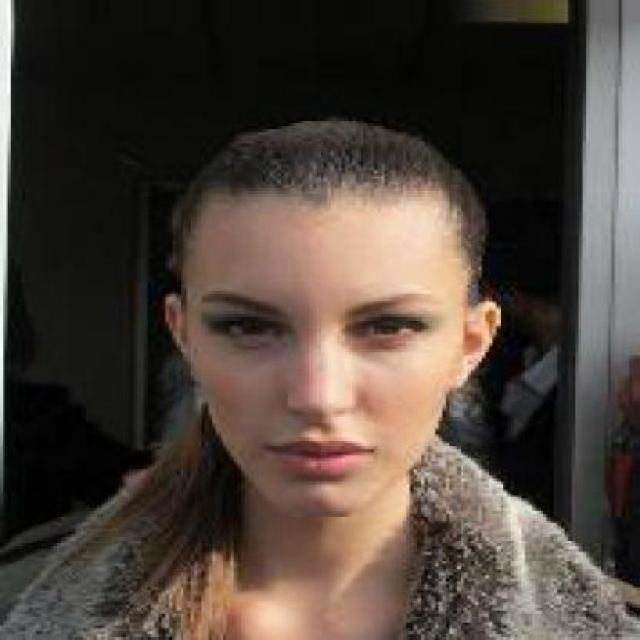closed-mouth: (260, 432, 382, 474)
